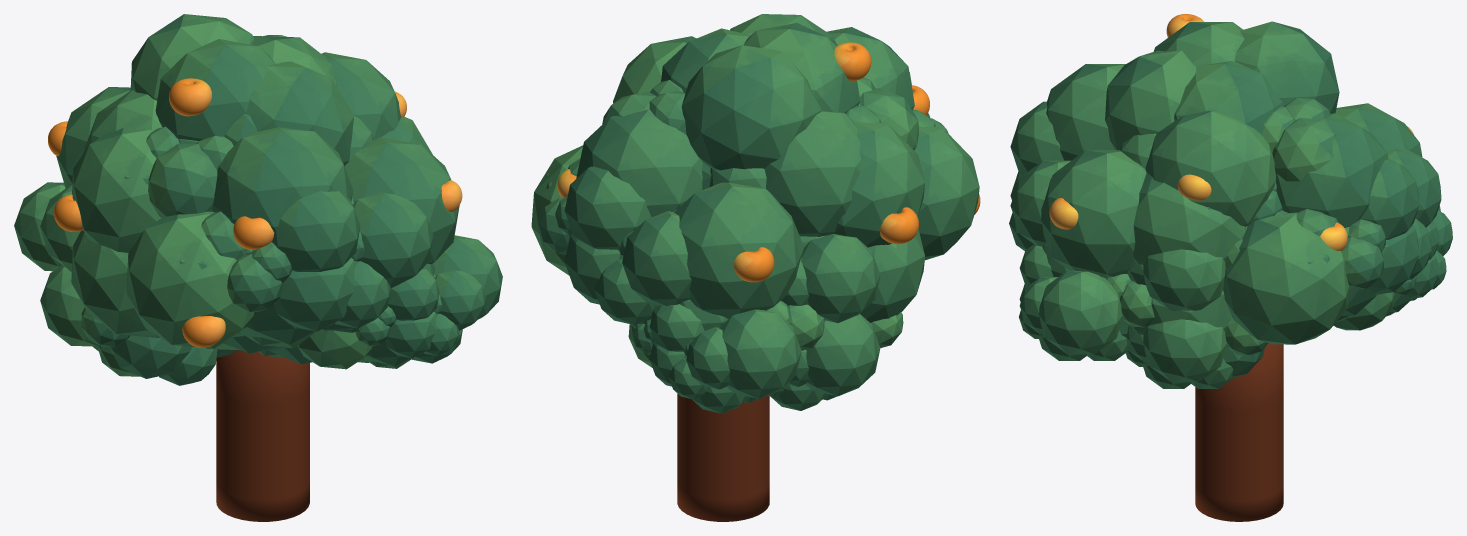
File: polytreeorng.glb
The picture shows the model from 3 angles, left to right: view 1: azimuth 30°, elevation 25°; view 2: azimuth 150°, elevation 25°; view 3: azimuth 270°, elevation 25°; orthographic projection. The views are drawn at different scales.
Visible parts, largest first — view 1: Cylinder, Sphere.003, Sphere.001, Sphere.002, Sphere.008; view 2: Cylinder, Sphere.007, Sphere.003, Sphere.008; view 3: Cylinder, Sphere.005, Sphere.004, Sphere.006.
Boxes of the visible parts, x1,y1,x2,y2 form: Cylinder: (14,14,502,521); Sphere.003: (169,78,211,116); Sphere.001: (182,316,225,347); Sphere.002: (233,216,274,249); Sphere.008: (54,194,83,231); Cylinder: (531,14,979,521); Sphere.007: (734,247,774,282); Sphere.003: (834,42,871,81); Sphere.008: (880,207,918,244); Cylinder: (1009,21,1452,521); Sphere.005: (1177,174,1211,200); Sphere.004: (1049,198,1078,229); Sphere.006: (1320,222,1347,250).
Bounding box in the file's own units: 7.4 × 9.39 × 8.31.
11 materials, 10 textured.
